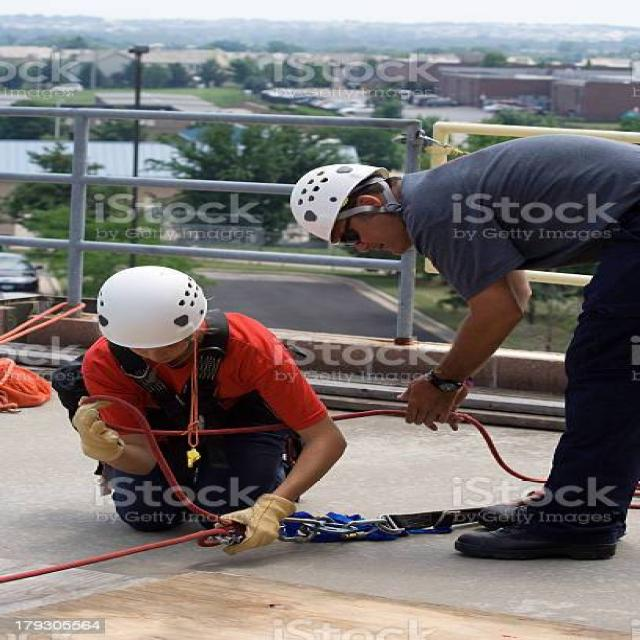Harness: (64, 302, 299, 453)
